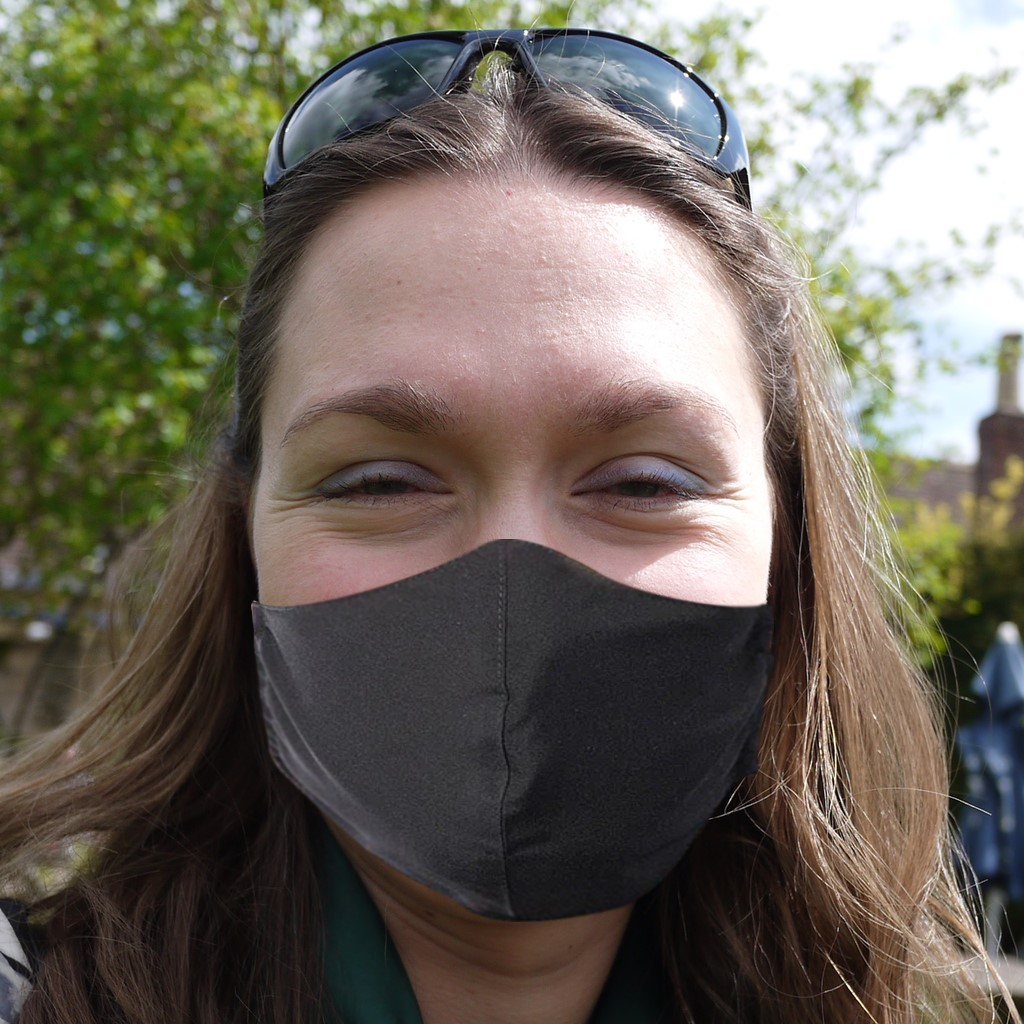con_mascara: (215, 89, 799, 930)
